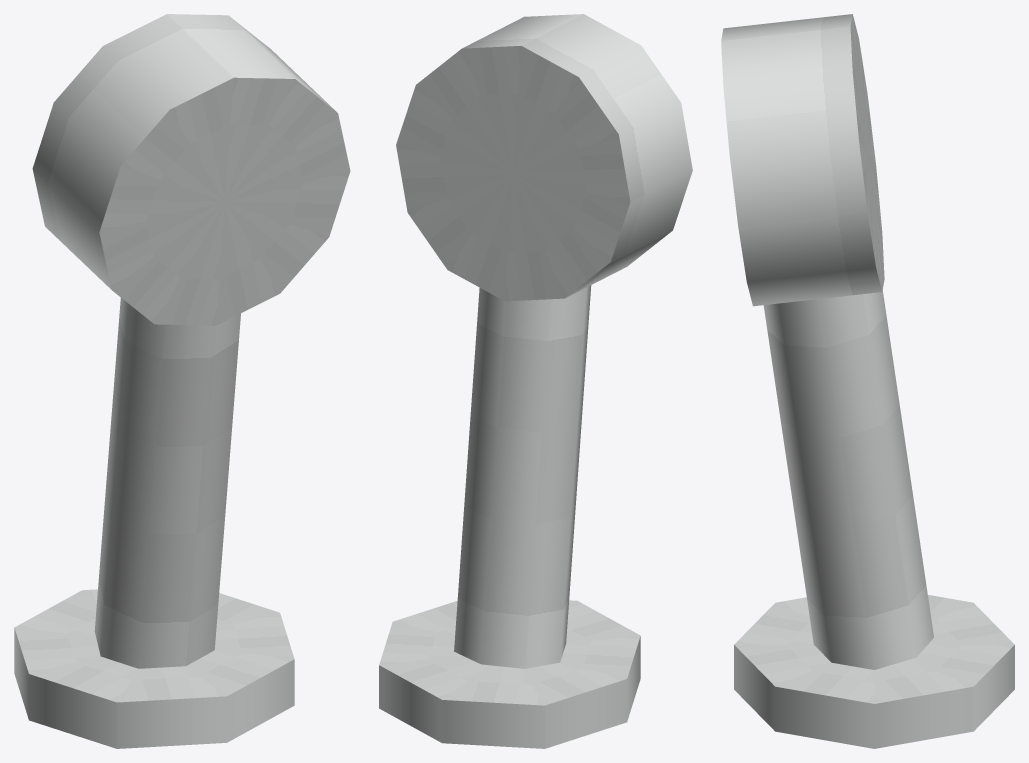
File: trusssignalarm_stub_20.obj
3 renders of one model, left to right at view 1: azimuth 30°, elevation 25°; view 2: azimuth 150°, elevation 25°; view 3: azimuth 270°, elevation 25°, orthographic. The views are drawn at different scales.
Parts seen in each view (by area): view 1: trusssignalarm_stub_20; view 2: trusssignalarm_stub_20; view 3: trusssignalarm_stub_20.
Part boxes in pixels (<box>): trusssignalarm_stub_20: <box>14,14,350,748</box>; trusssignalarm_stub_20: <box>379,14,692,748</box>; trusssignalarm_stub_20: <box>721,14,1014,748</box>.
Bounding box in the file's own units: 0.35 × 0.912 × 0.3662.
